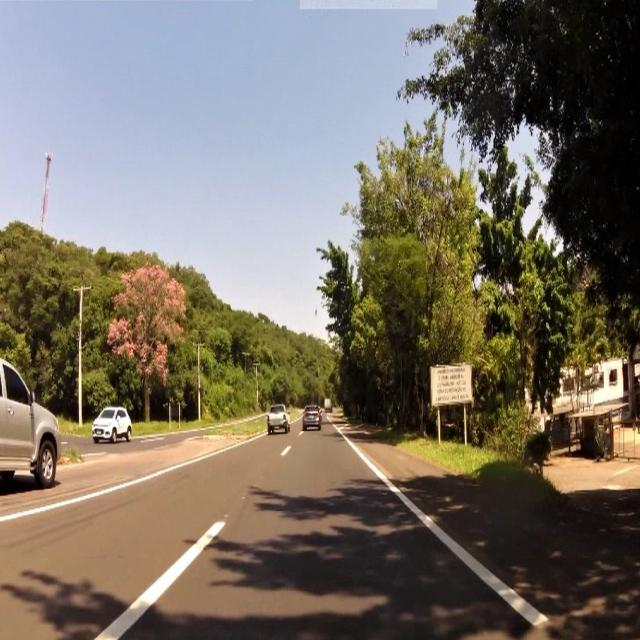E-5: (430, 364, 476, 409)
